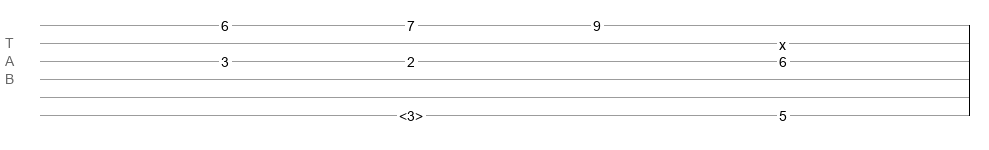2: (407, 54, 415, 64)
3: (221, 54, 229, 64)
5: (779, 108, 787, 118)
6: (221, 18, 229, 28), (779, 54, 787, 64)
7: (407, 18, 415, 28)
9: (593, 18, 601, 28)
harmonic: (399, 108, 423, 118)
x: (779, 37, 786, 45)
